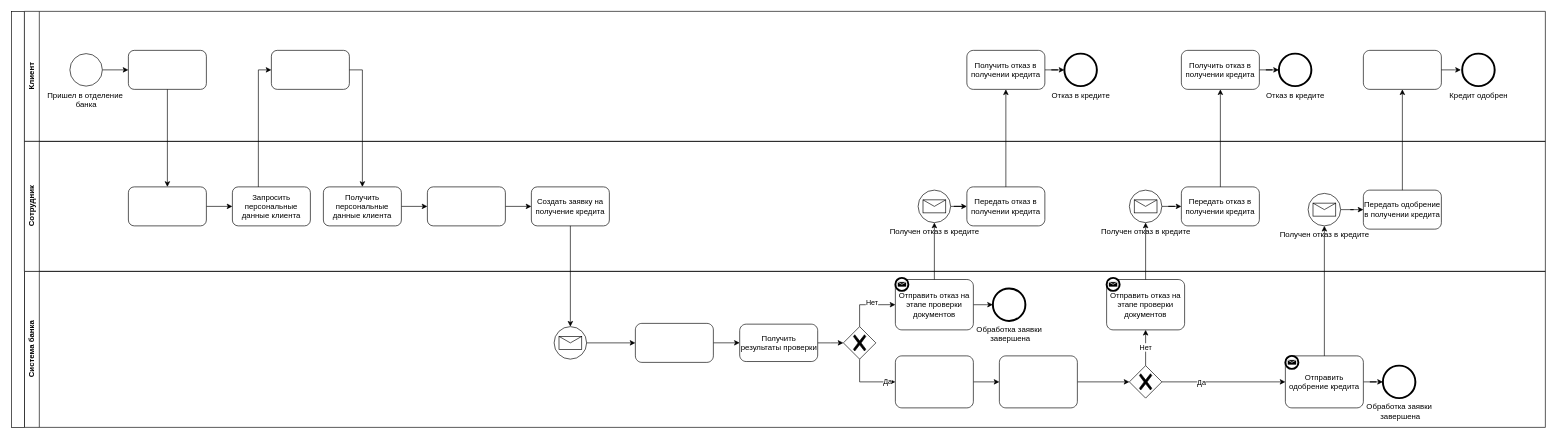
This 1557x439 diagram has some shape labels left out. Here are the shapes that lost their labels. From the top down, the centre of each, then its label:
At (x=167, y=69): "Обратиться к сотруднику с запросом для получения кредита".
At (x=310, y=69): "Передать свои персональные данные".
At (x=1402, y=69): "Получить одобрение в получении кредита".
At (x=17, y=219): "Создание заявки на кредит".
At (x=167, y=206): "Уточнить запрос у клиента".
At (x=466, y=206): "Отсканировать документы клиента".
At (x=570, y=342): "Получена заявка на кредит".
At (x=674, y=342): "Отправить документы на проверку".
At (x=859, y=342): "Проверка пройдена?".
At (x=934, y=381): "Отправить заявку в скорринг систему".
At (x=1038, y=381): "Получить результат скорринга".
At (x=1145, y=381): "Скорринг пройден?".
